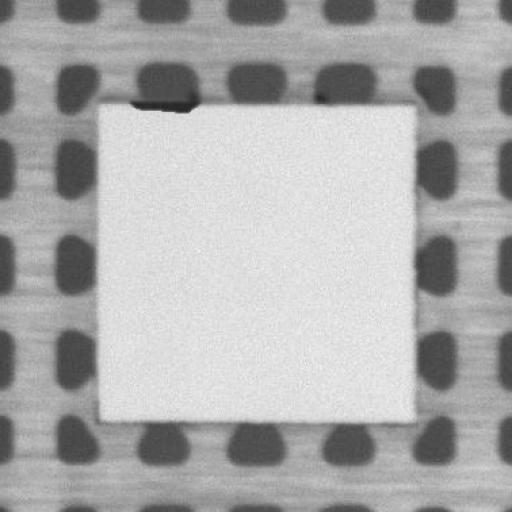DIE_BROKEN: (124, 93, 202, 116)
